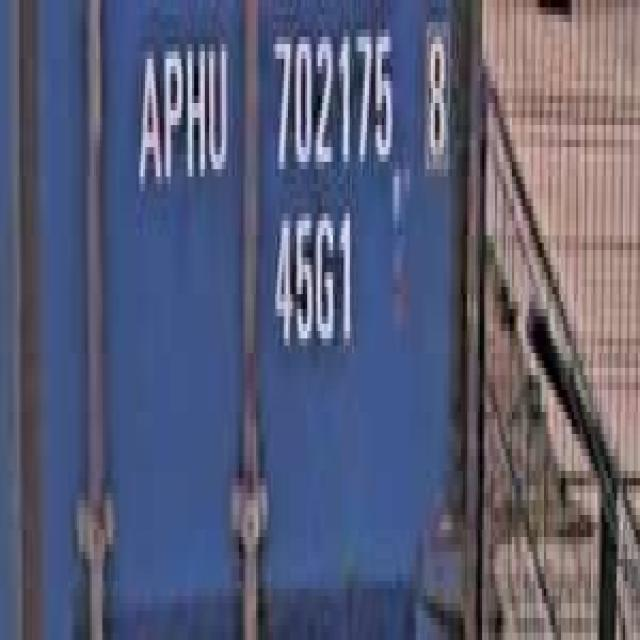dv: (423, 7, 450, 162)
owner: (132, 15, 230, 198)
serial: (269, 7, 397, 184)
size: (267, 198, 356, 360)
